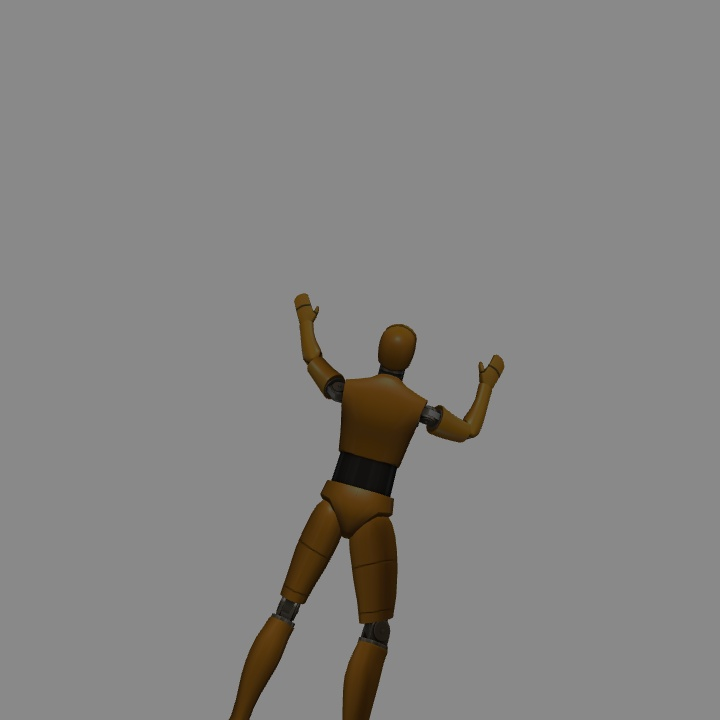victim: (292, 287, 505, 720)
